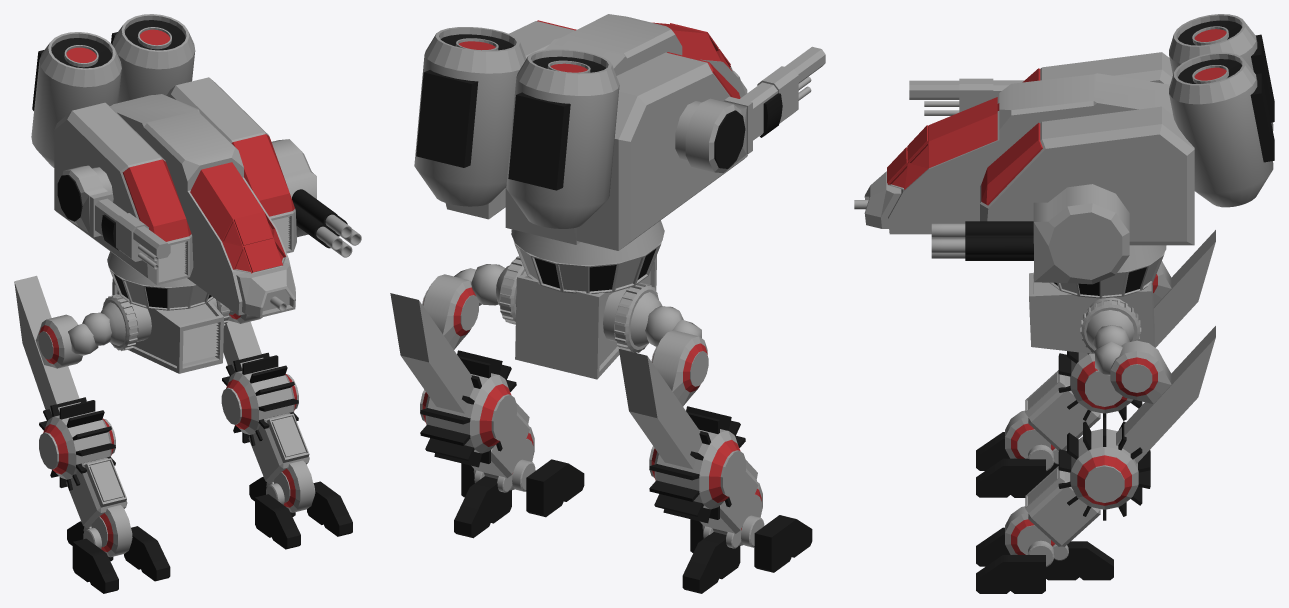
File: robot_fbx.FBX
The picture shows the model from 3 angles, left to right: view 1: azimuth 30°, elevation 25°; view 2: azimuth 150°, elevation 25°; view 3: azimuth 270°, elevation 25°; orthographic projection. The views are drawn at different scales.
Parts seen in each view (by area): view 1: Box16, Box06, Cylinder15, Box09, Cylinder07, Box05, Cylinder02, Cylinder08, Box08, Box11, Box07, Box01 (+21 smaller); view 2: Box06, Cylinder15, Cylinder07, Box05, Box16, Cylinder02, Cylinder08, Box12, Box08, Box14, Box15, Cylinder17 (+23 smaller); view 3: Box09, Box16, Cylinder07, Cylinder31, Cylinder08, Box05, Box12, Cylinder15, Box11, Box07, Cylinder02, Box08 (+22 smaller).
Part boxes in pixels (box(x1,y1,x2,y2)): Box16: box(110, 94, 295, 317); Box06: box(54, 102, 193, 285); Cylinder15: box(31, 32, 121, 167); Box09: box(166, 77, 296, 253); Cylinder07: box(112, 14, 195, 102); Box05: box(112, 278, 223, 373); Cylinder02: box(39, 397, 115, 490); Cylinder08: box(221, 352, 298, 445); Box08: box(14, 275, 80, 413); Box11: box(248, 413, 309, 483); Box07: box(66, 457, 127, 528); Box01: box(72, 538, 118, 593); Box06: box(574, 52, 747, 250); Cylinder15: box(506, 49, 619, 228); Cylinder07: box(414, 27, 526, 206); Box05: box(515, 255, 656, 379); Box16: box(505, 14, 747, 244); Cylinder02: box(649, 406, 745, 523); Cylinder08: box(420, 350, 516, 467); Box12: box(390, 293, 473, 413); Box08: box(619, 349, 702, 469); Box14: box(508, 92, 570, 190); Box15: box(416, 70, 478, 167); Cylinder17: box(511, 220, 664, 264); Box09: box(980, 106, 1194, 245); Box16: box(864, 73, 1172, 234); Cylinder07: box(1169, 52, 1273, 207); Cylinder31: box(1033, 184, 1129, 284); Cylinder08: box(1058, 417, 1150, 520); Box05: box(1029, 272, 1154, 354); Box12: box(1116, 326, 1215, 463); Cylinder15: box(1169, 14, 1273, 130); Box11: box(1025, 466, 1100, 546); Box07: box(1025, 370, 1100, 450); Cylinder02: box(1058, 351, 1142, 420); Box08: box(1154, 230, 1215, 347).
Bounding box in the file's own units: 133 × 182 × 231.
